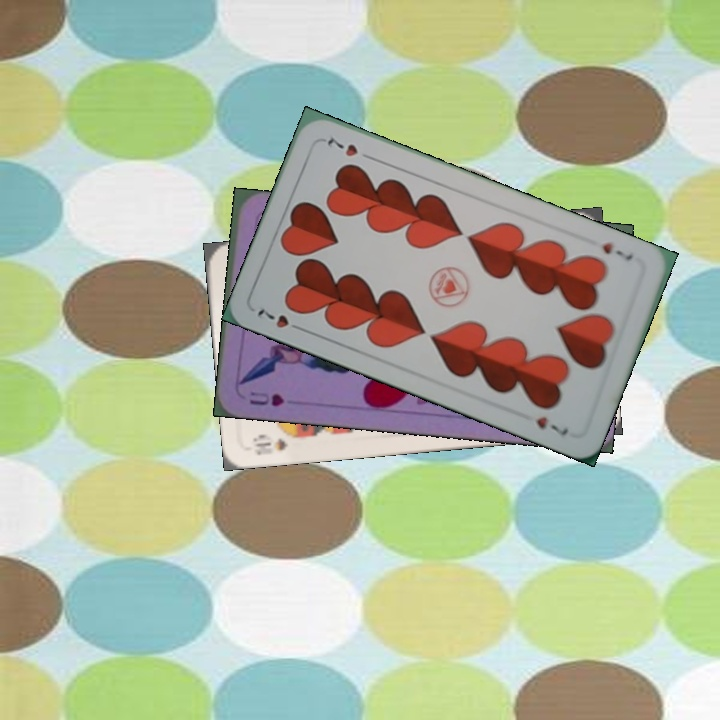H7: (253, 305, 308, 335), (597, 238, 636, 263)
HU: (245, 387, 287, 409)
S10: (249, 429, 305, 458)
